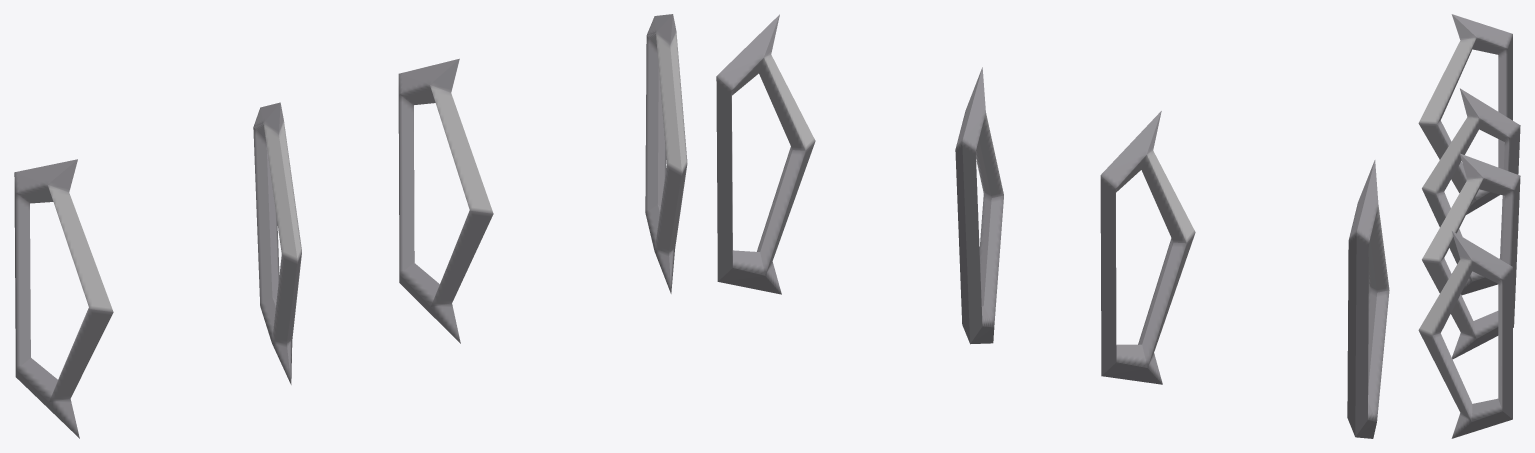
The model's file is W_BootClips.glb.
3 renders of one model, left to right at view 1: azimuth 30°, elevation 25°; view 2: azimuth 150°, elevation 25°; view 3: azimuth 270°, elevation 25°, orthographic. The views are drawn at different scales.
Visible parts, largest first — view 1: W_BootClips; view 2: W_BootClips; view 3: W_BootClips.
Part boxes in pixels (box(x1,y1,x2,y2)): W_BootClips: box(14, 14, 687, 438); W_BootClips: box(716, 14, 1389, 438); W_BootClips: box(1418, 14, 1520, 438).
Size of the model in its own units: 0.1979 by 0.0819 by 0.036.
Materials: 1 (1 with a texture image).
